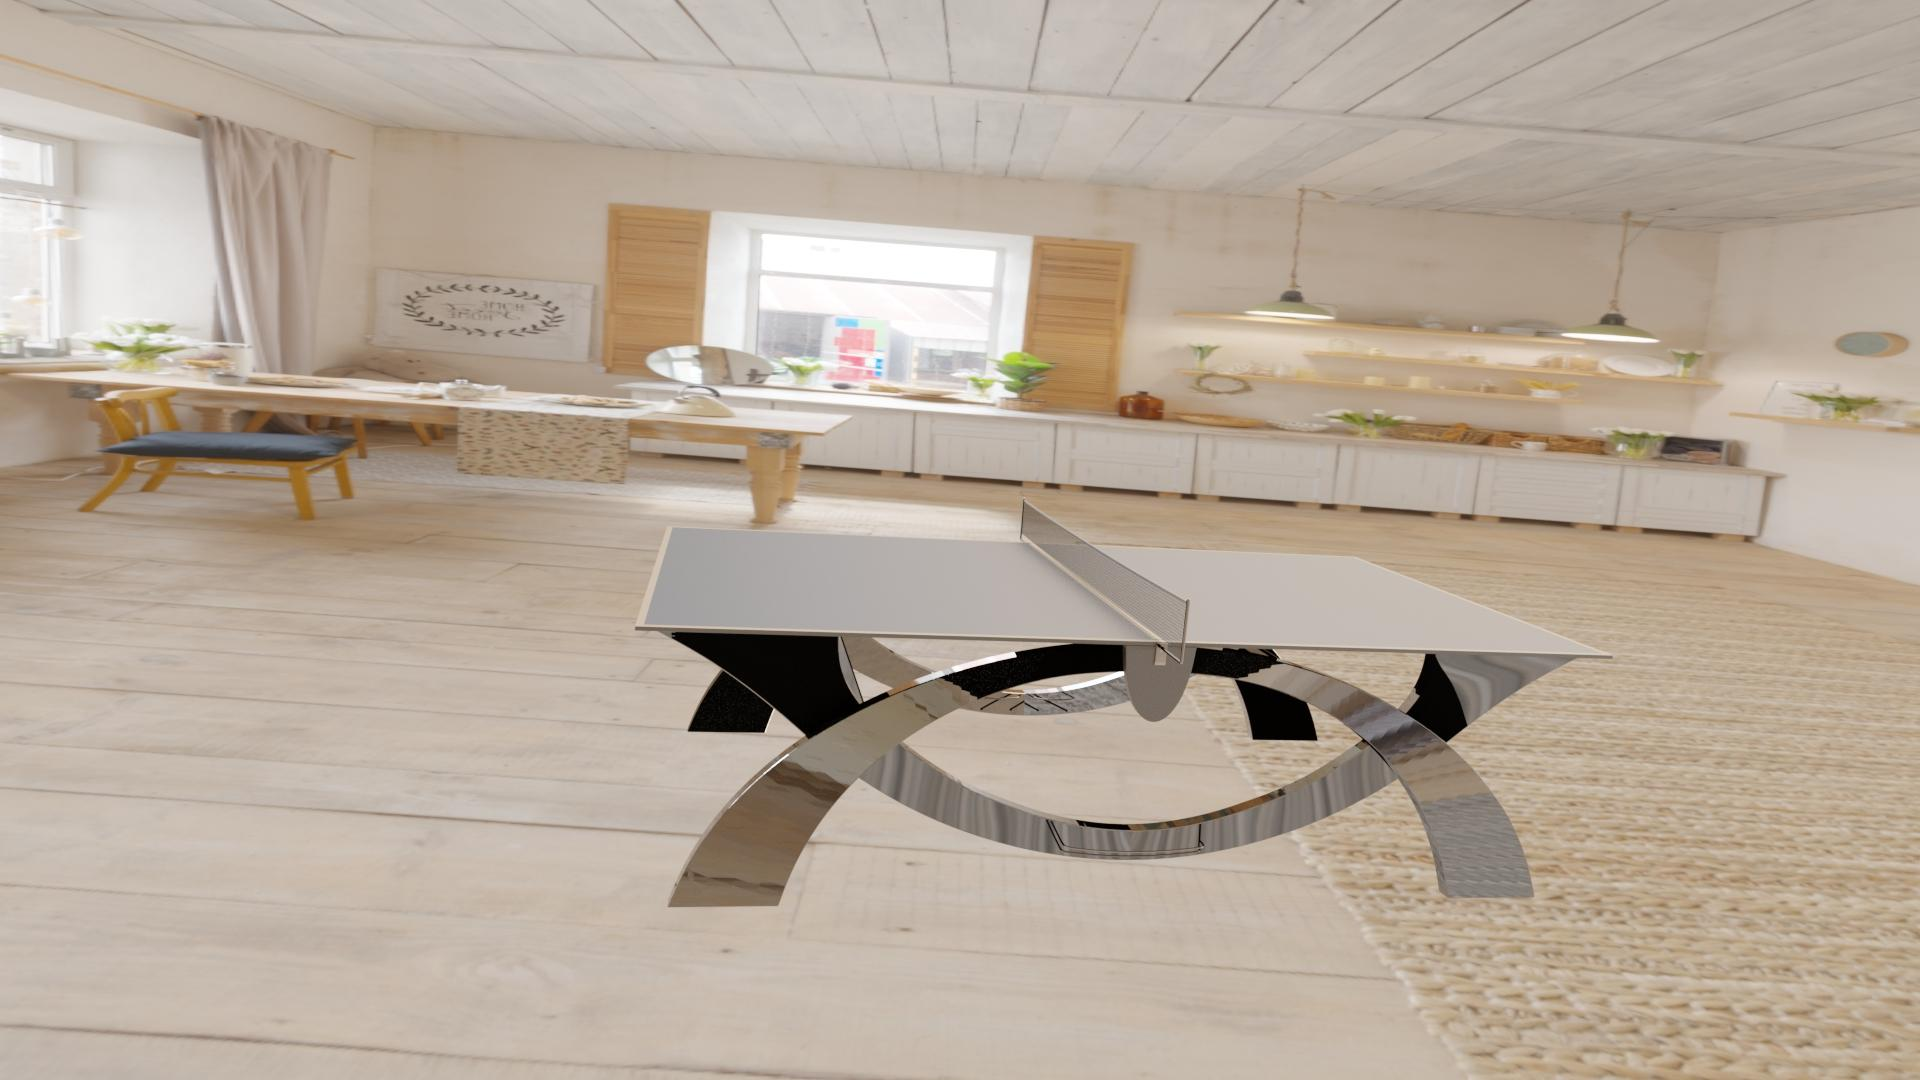table: (644, 527, 1602, 654)
